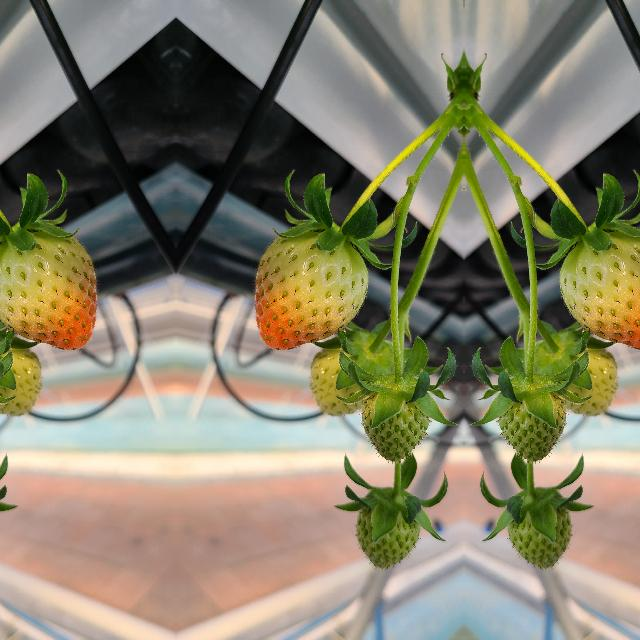Health_25: (358, 379, 430, 466), (496, 379, 568, 466), (308, 339, 376, 417), (550, 339, 618, 417), (356, 489, 422, 569), (504, 489, 570, 569), (0, 339, 42, 417)
Health_50: (255, 232, 368, 351), (0, 231, 95, 350), (558, 231, 640, 350)
